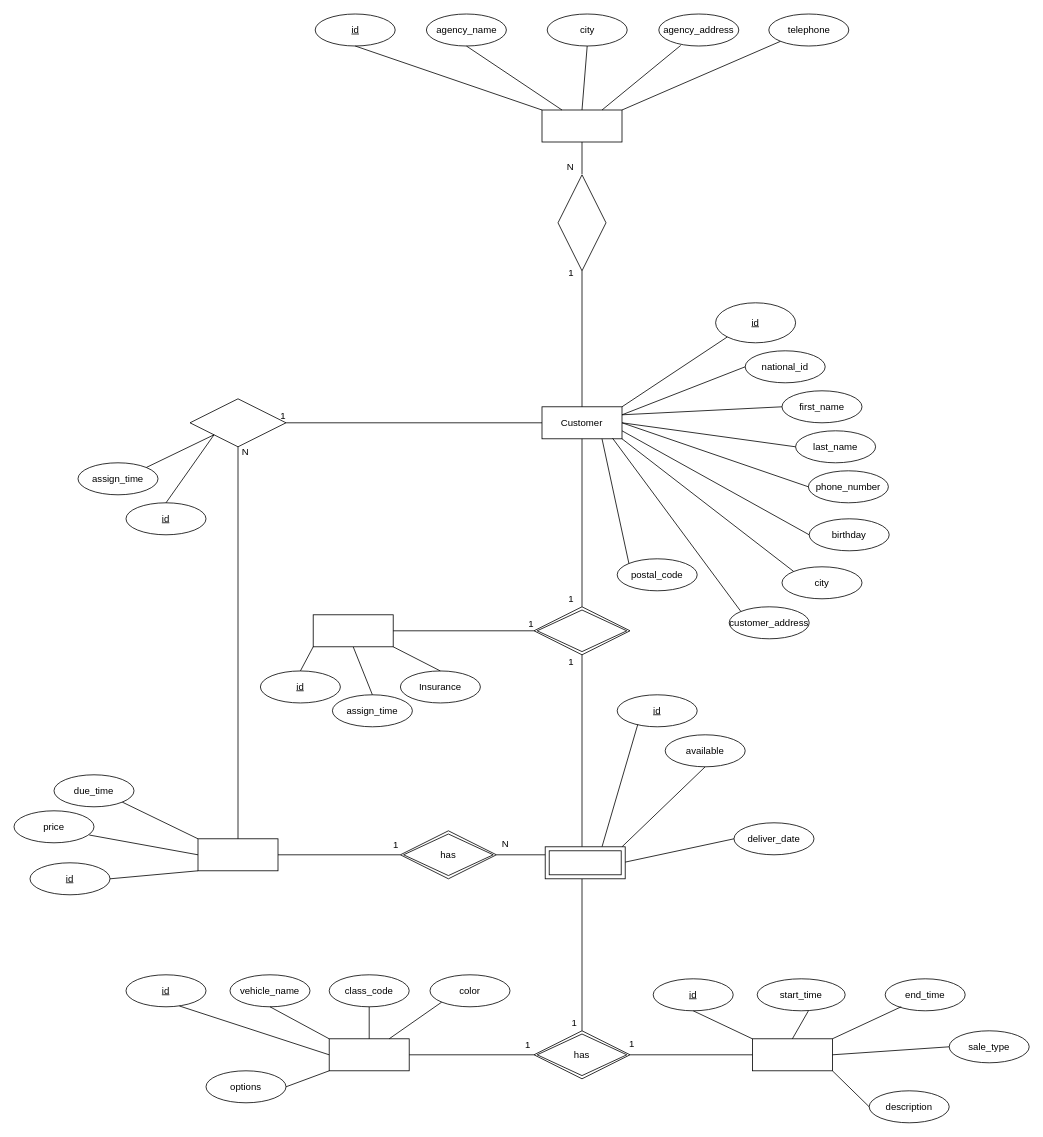
This 1043x1137 diagram has some shape labels left out. Here are the shapes that lost their labels. From the top down, the centre of each, then its label:
At [581,125]: "Agency".
At [581,222]: "Choose".
At [237,422]: "Transaction".
At [352,630]: "Contract".
At [581,630]: "Assign".
At [237,854]: "Checks".
At [584,862]: "VehicleForSale".
At [368,1054]: "Vehicle".
At [792,1054]: "SalePlan".
